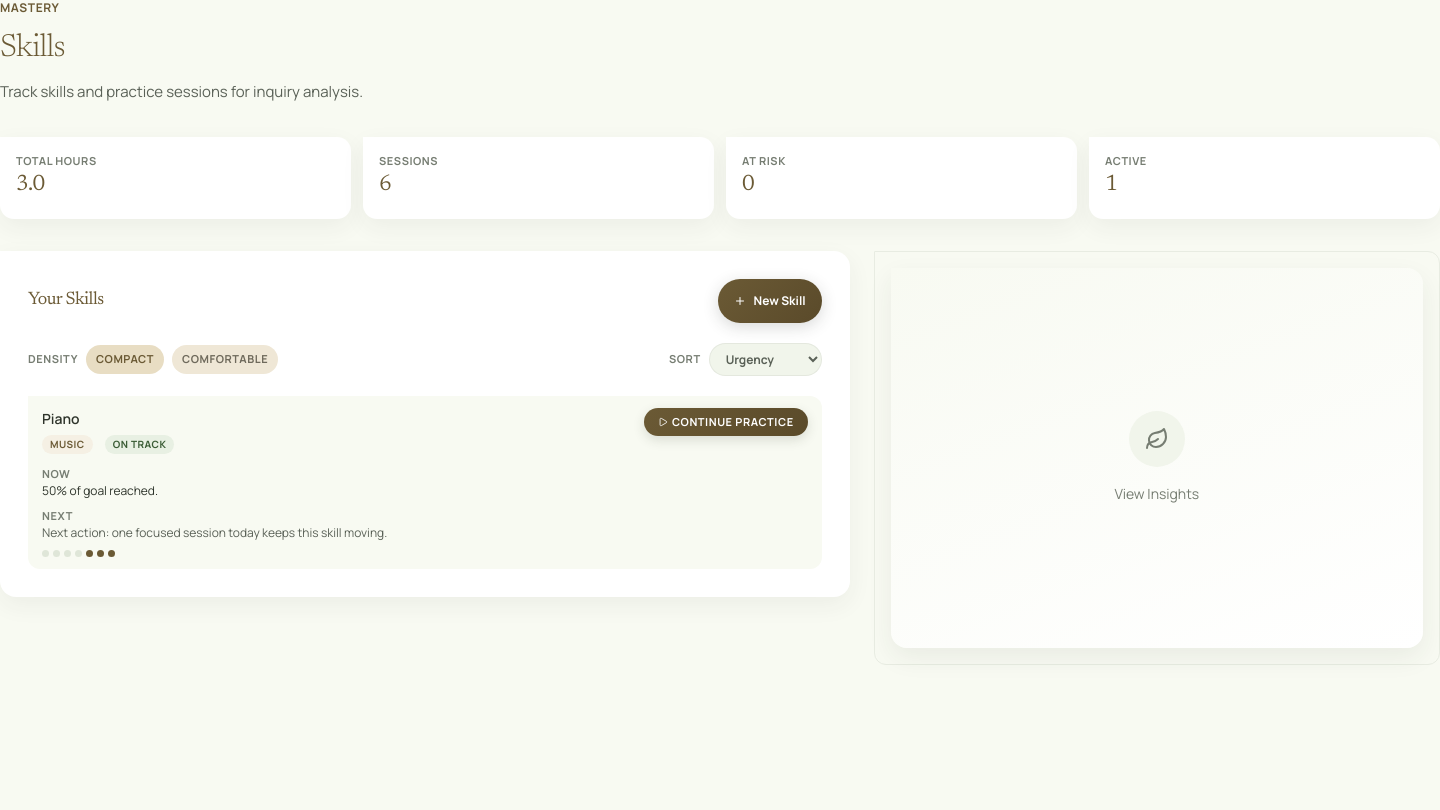
Test case: SkillsPage create flow rollout behavior › renders deterministic goal insights in edit-goal modal
Click the button with aria-label "open details for piano": (61, 418) [28,396,822,569]
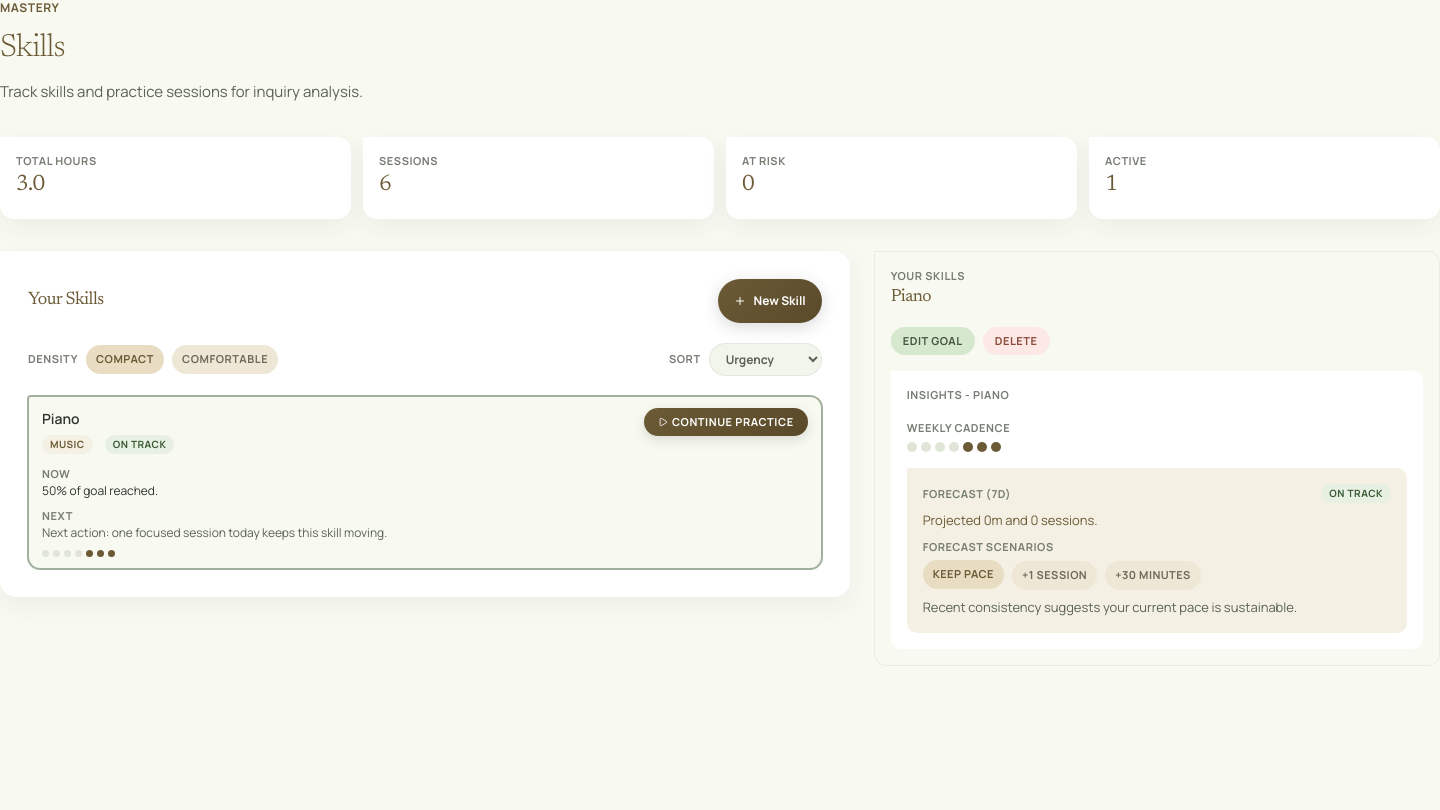
Click the button "Edit Goal": (933, 341) [891,327,975,355]
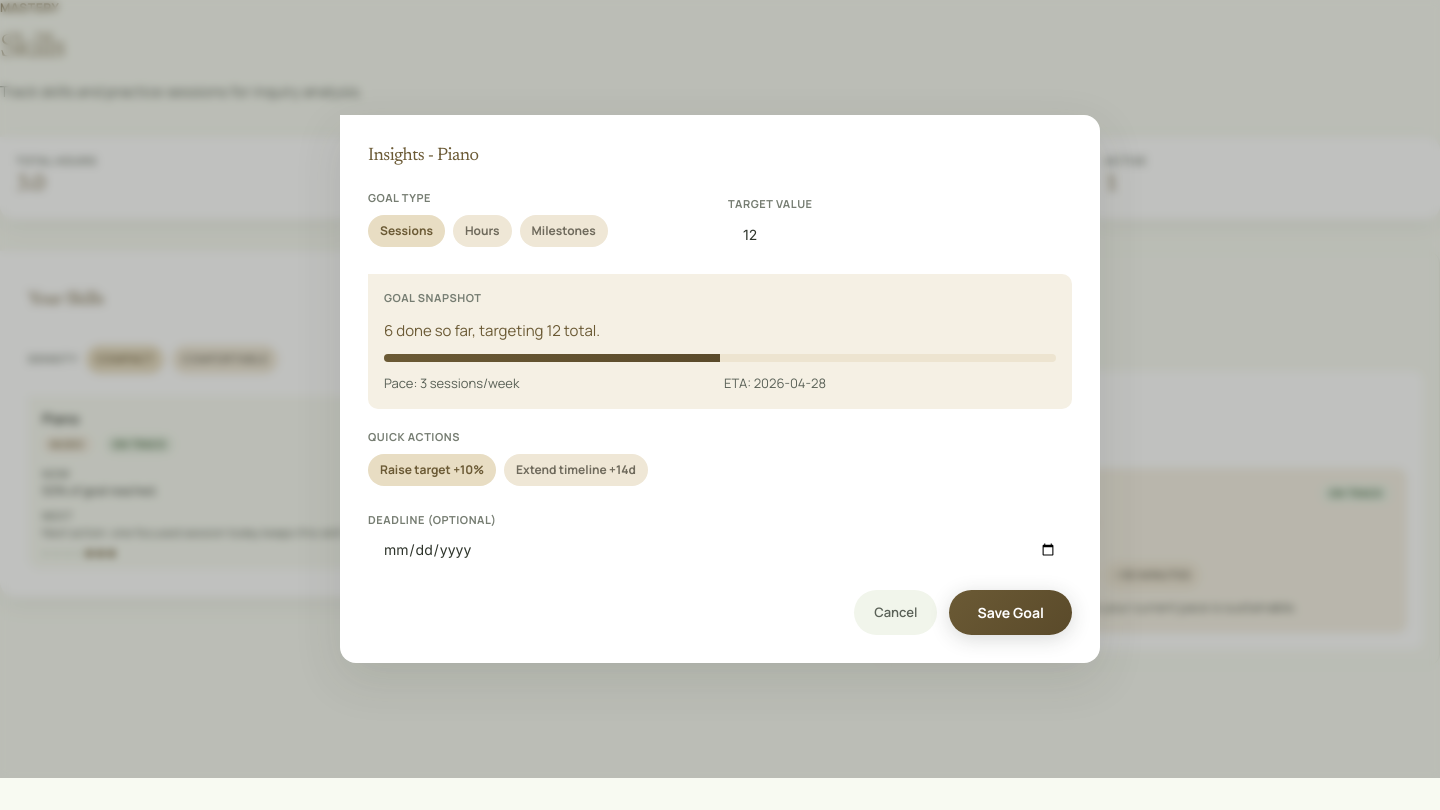
Now the text "Goal Snapshot" is shown, box [384,290,482,305]
Now the text "Pace: 3 sessions/week" is shown, box [384,374,519,392]
Now the text "ETA: 2026-04-28" is shown, box [724,374,826,392]
